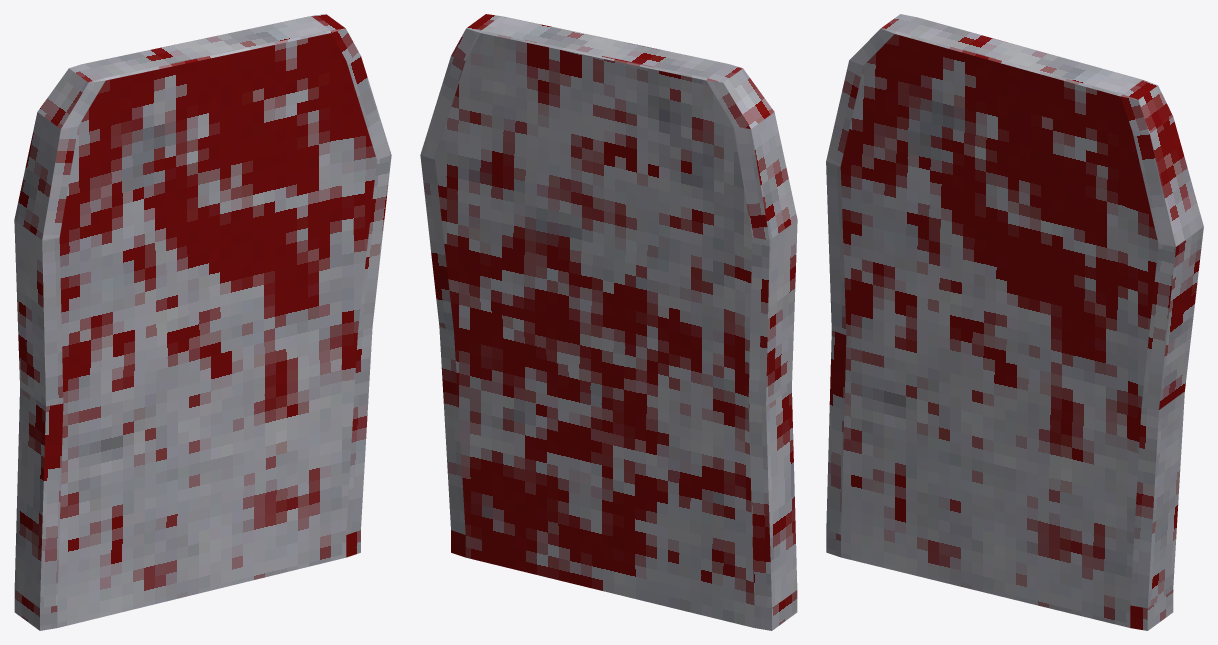
The model's file is Slab_4.fbx.
The picture shows the model from 3 angles, left to right: view 1: azimuth 30°, elevation 25°; view 2: azimuth 150°, elevation 25°; view 3: azimuth 330°, elevation 25°; orthographic projection.
Parts seen in each view (by area): view 1: Headstone 3; view 2: Headstone 3; view 3: Headstone 3.
Boxes of the visible parts, x1,y1,x2,y2 form: Headstone 3: (14,14,391,630); Headstone 3: (420,14,797,630); Headstone 3: (826,14,1203,630).
Bounding box in the file's own units: 90.35 × 132 × 13.7.
Materials: 1 (1 with a texture image).
